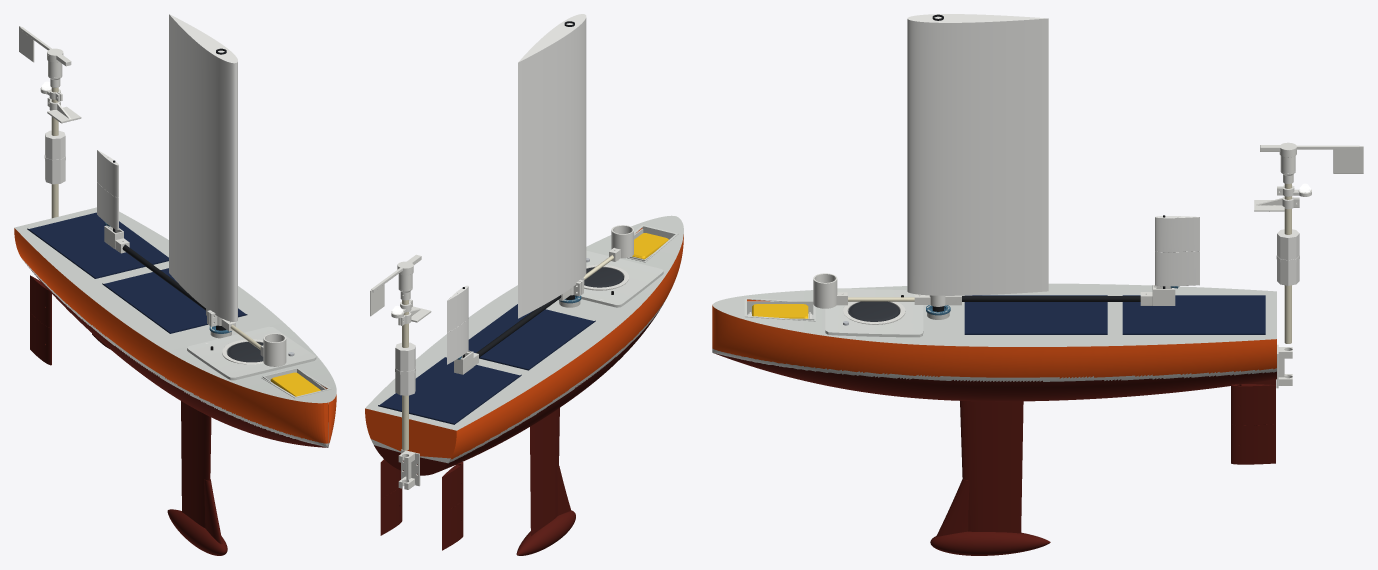
File: drone_boat_revE3_exterior.glb
3 renders of one model, left to right at view 1: azimuth 30°, elevation 25°; view 2: azimuth 150°, elevation 25°; view 3: azimuth 270°, elevation 25°, orthographic. The views are drawn at different scales.
Visible parts, largest first — view 1: wing, hull, deck, solar2, solar1, fin, hatch_lid, bulb, radar, P13a_stbd, P13b_stbd, P02 (+10 smaller); view 2: wing, deck, hull, solar2, solar1, transom, fin, hatch_lid, bulb, radar, P13a_stbd, P13b_port (+13 smaller); view 3: wing, hull, deck, fin, solar2, solar1, hatch_lid, bulb, P13a_port, P13b_port, P10b, P10a (+7 smaller).
Boxes of the visible parts, x1,y1,x2,y2 form: wing: (169,14,237,321); hull: (14,228,336,447); deck: (14,207,336,403); solar2: (27,212,168,278); solar1: (102,268,247,333); fin: (181,401,211,527); hatch_lid: (187,326,316,380); bulb: (167,509,227,555); radar: (44,130,65,184); P13a_stbd: (30,275,51,327); P13b_stbd: (30,313,51,365); P02: (19,26,71,66); wing: (518,14,586,318); deck: (365,215,683,430); hull: (437,228,683,472); solar2: (378,357,521,424); solar1: (468,304,595,370); transom: (365,408,456,475); fin: (530,408,559,535); hatch_lid: (581,250,663,307); bulb: (516,510,575,555); radar: (395,342,415,395); P13a_stbd: (442,462,463,513); P13b_port: (380,488,402,535); wing: (907,14,1048,295); hull: (712,299,1276,401); deck: (712,283,1276,346); fin: (960,401,1023,533); solar2: (1122,295,1265,334); solar1: (964,295,1107,334); hatch_lid: (825,288,923,337); bulb: (930,531,1050,555); P13a_port: (1231,384,1275,425); P13b_port: (1231,424,1275,464); P10b: (1155,216,1199,252); P10a: (1155,251,1199,286).
Size of the model in its own units: 0.4 by 1.58 by 1.73.
